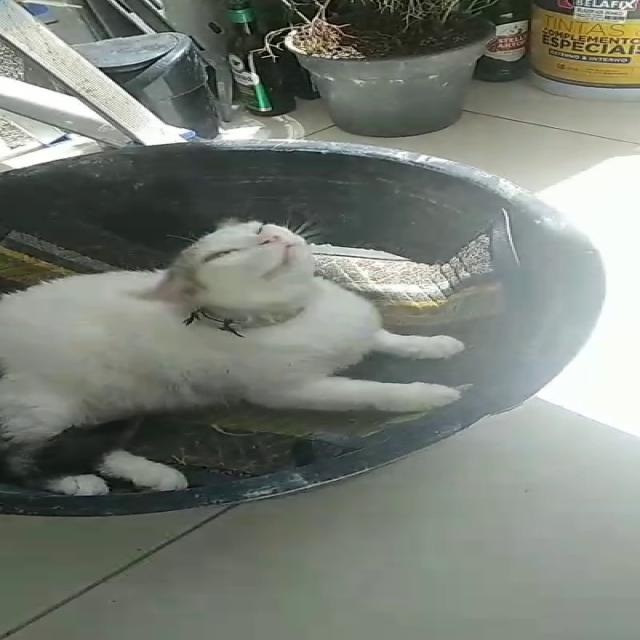Simba: (0, 199, 488, 495)
